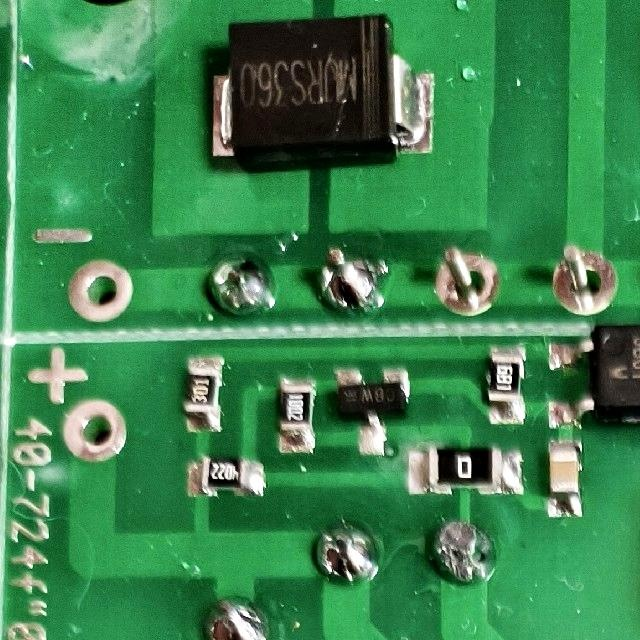chip-capacitor: (545, 435, 587, 521)
chip-resistor: (407, 444, 528, 499), (484, 341, 529, 428), (182, 354, 228, 434), (185, 456, 269, 499), (275, 373, 318, 456)
diode: (205, 16, 438, 171)
transistor: (332, 362, 415, 457)
